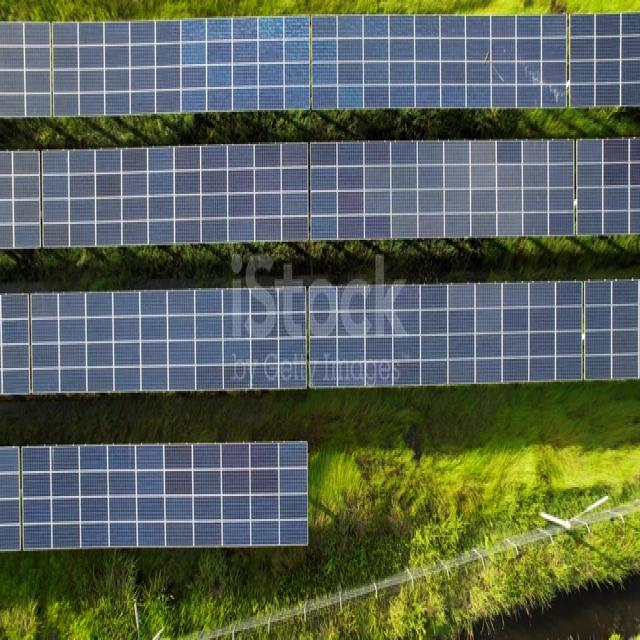Solar-panels: (1, 139, 640, 249), (2, 285, 639, 393), (1, 15, 640, 117), (2, 446, 312, 551)
